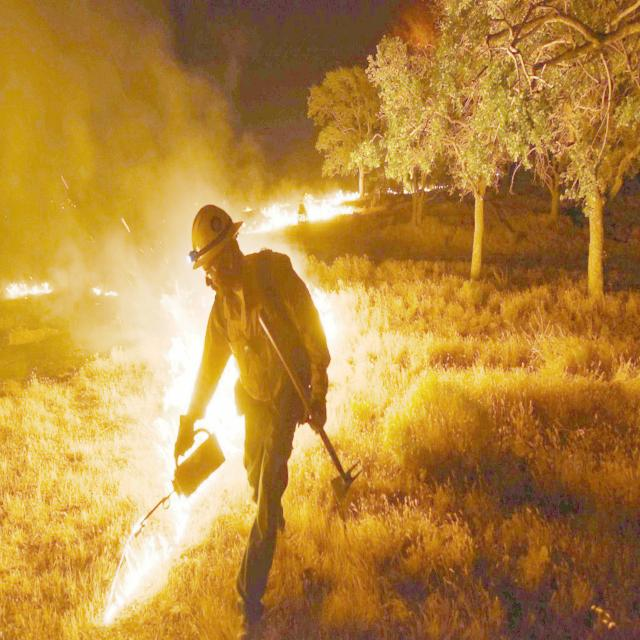api: (109, 522, 183, 622), (256, 199, 371, 231), (167, 296, 196, 406), (222, 386, 234, 444)
asap: (35, 61, 199, 286)
